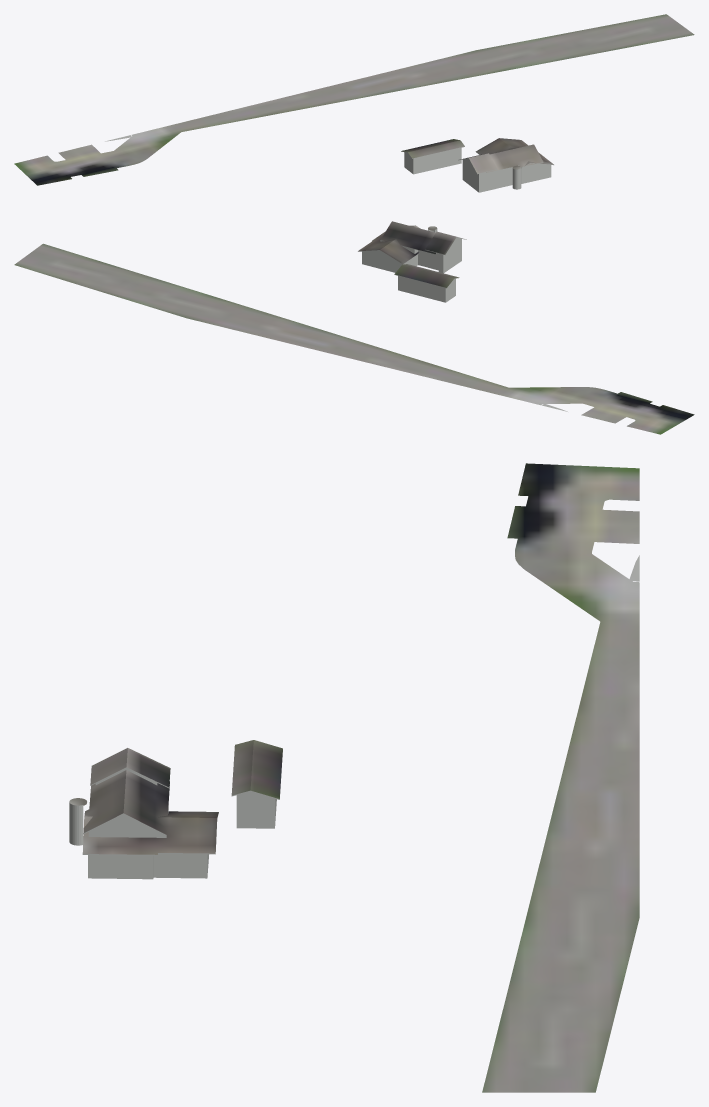
The model's file is LSMM_-2_-1.glb.
3 views of the same model, one above another, from view 1: azimuth 30°, elevation 25°; view 2: azimuth 150°, elevation 25°; view 3: azimuth 270°, elevation 25° (orthographic). The views are drawn at different scales.
Visible parts, largest first — view 1: pavement_LSMM_pavement_5300_2353, building_9fd4b9529249d591, building_c340a61941c89c42; view 2: pavement_LSMM_pavement_5300_2353, building_c340a61941c89c42, building_9fd4b9529249d591; view 3: pavement_LSMM_pavement_5300_2353, building_c340a61941c89c42, building_9fd4b9529249d591.
Boxes of the visible parts, x1=… form: pavement_LSMM_pavement_5300_2353: x1=14, y1=14, x2=694, y2=185; building_9fd4b9529249d591: x1=404, y1=147, x2=551, y2=192; building_c340a61941c89c42: x1=401, y1=138, x2=553, y2=174; pavement_LSMM_pavement_5300_2353: x1=14, y1=243, x2=694, y2=434; building_c340a61941c89c42: x1=358, y1=221, x2=466, y2=288; building_9fd4b9529249d591: x1=362, y1=228, x2=461, y2=302; pavement_LSMM_pavement_5300_2353: x1=482, y1=463, x2=639, y2=1092; building_c340a61941c89c42: x1=69, y1=740, x2=282, y2=855; building_9fd4b9529249d591: x1=69, y1=768, x2=276, y2=879.
Size of the model in its own units: 291 by 13.05 by 111.
3 materials, 2 textured.
